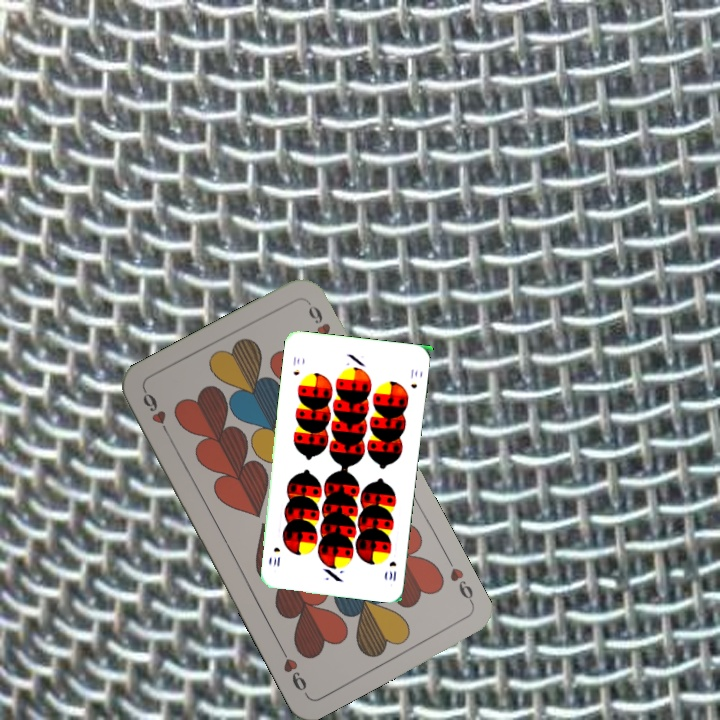H9: (138, 386, 173, 441), (442, 553, 477, 608)
S10: (385, 557, 399, 584), (289, 352, 302, 378)
